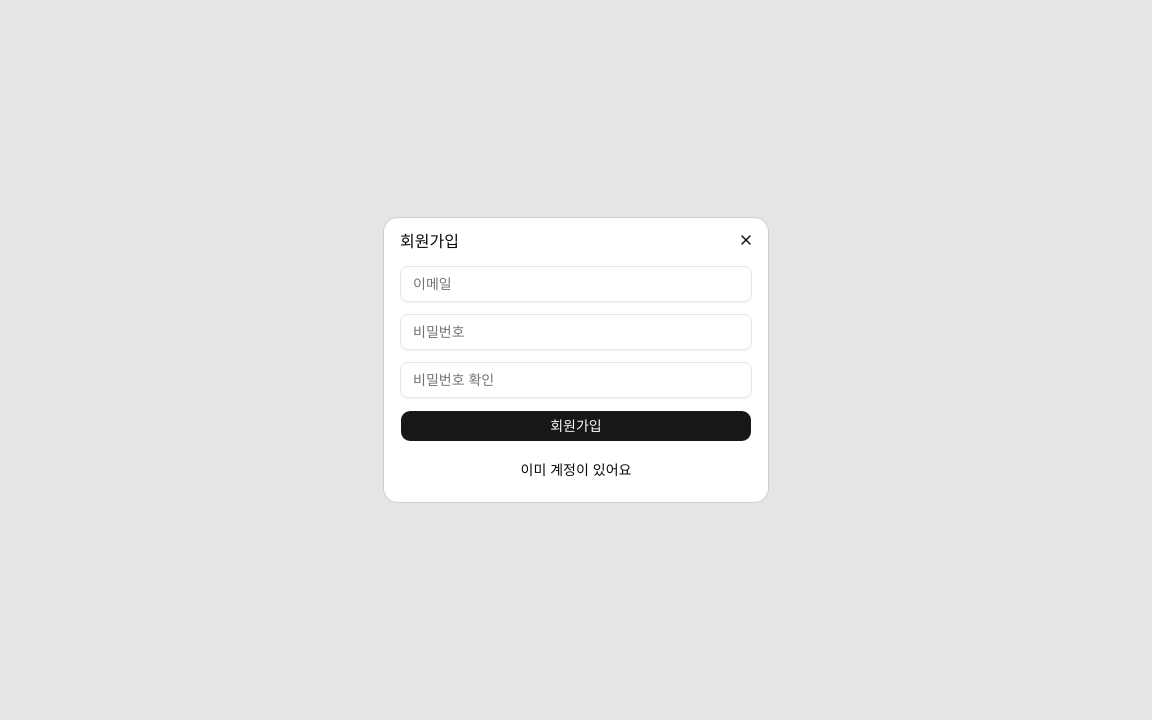
Scenario: RegisterModal › shows password mismatch error
Type "abc" into the password field with placeholder "비밀번호". click: [576, 332]
box: [400,314,752,350]
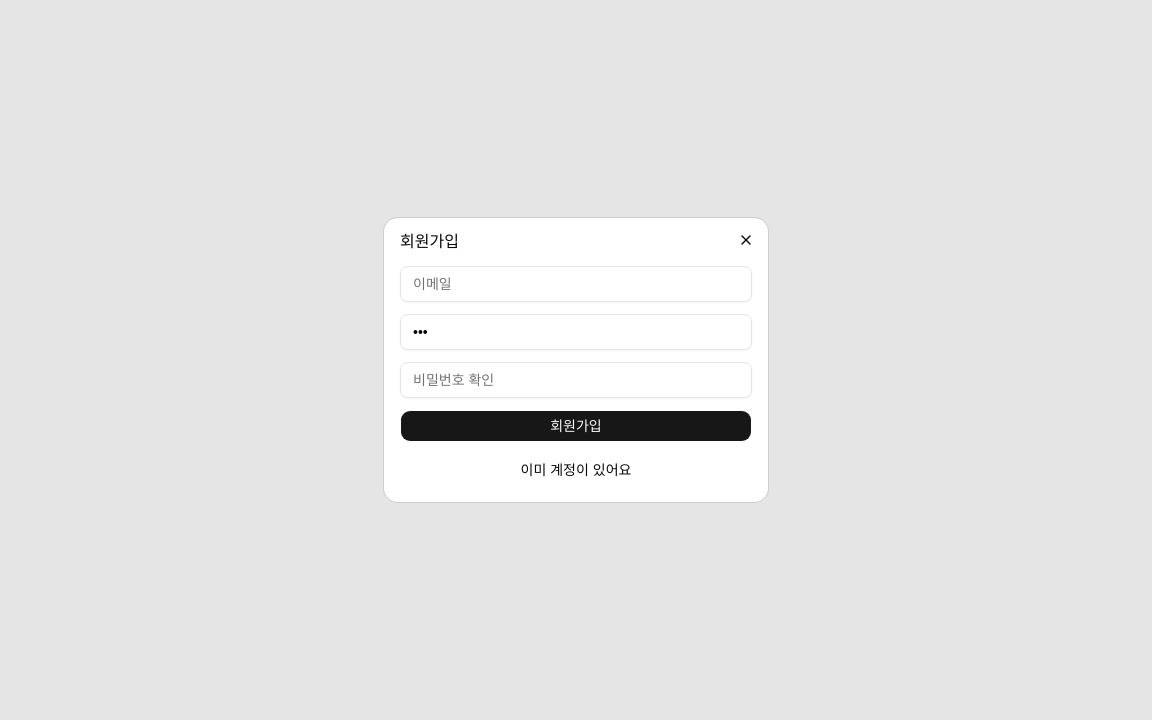
Type "xyz" into the password field with placeholder "비밀번호 확인". click: [576, 380]
box: [400,362,752,398]
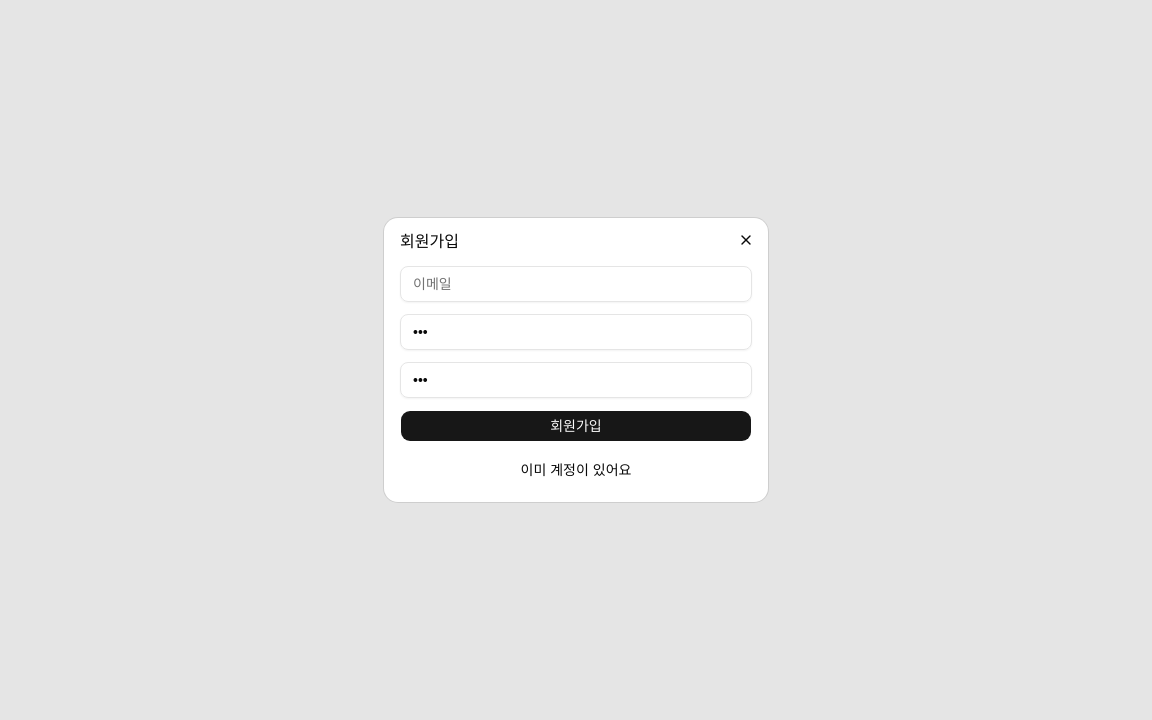
Submit the form from the button "회원가입", box [400,410,752,442]
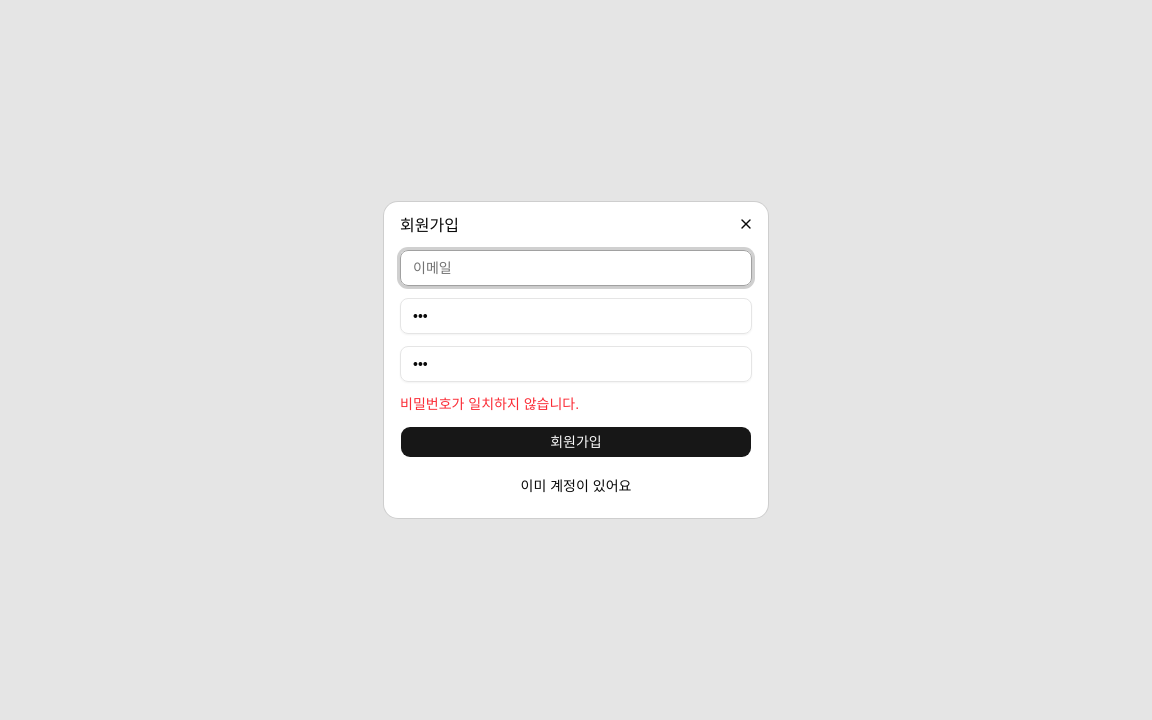
Now the text "비밀번호가 일치하지 않습니다." is shown, box [400,396,579,412]
